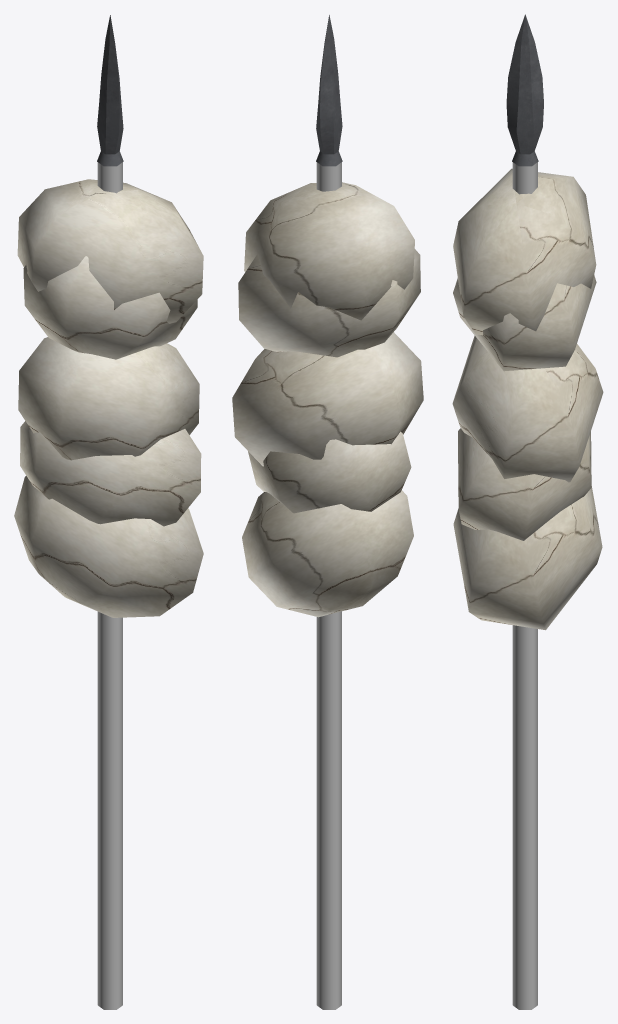
Rendered from skulls.fbx.
3 views of the same model, side by side, from view 1: azimuth 30°, elevation 25°; view 2: azimuth 150°, elevation 25°; view 3: azimuth 270°, elevation 25° (orthographic).
Parts seen in each view (by area): view 1: LOD_23.6, LOD_23.5, Pole; view 2: LOD_23.6, LOD_23.5, Pole; view 3: LOD_23.6, Pole, LOD_23.5.
Part boxes in pixels (x1,y1,x2,y2): LOD_23.6: (14, 179, 203, 617); LOD_23.5: (20, 256, 201, 526); Pole: (97, 15, 123, 1009); LOD_23.6: (232, 182, 423, 617); LOD_23.5: (238, 249, 420, 513); Pole: (316, 15, 342, 1009); LOD_23.6: (452, 168, 603, 630); Pole: (506, 14, 543, 1009); LOD_23.5: (453, 275, 596, 540).
Size of what is drawn, in the model's own units: 45.23 by 328 by 56.54.
